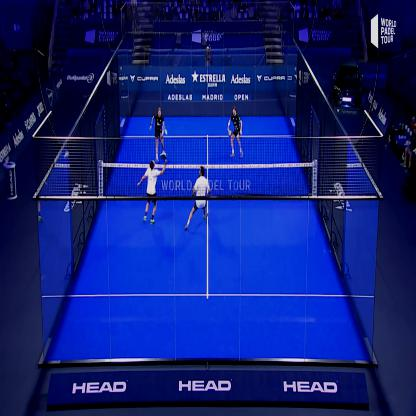ball: (162, 126, 170, 140)
